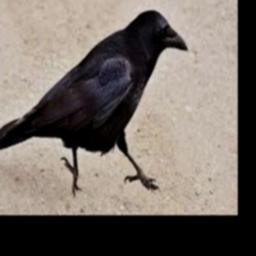Crow: (0, 10, 189, 195)
